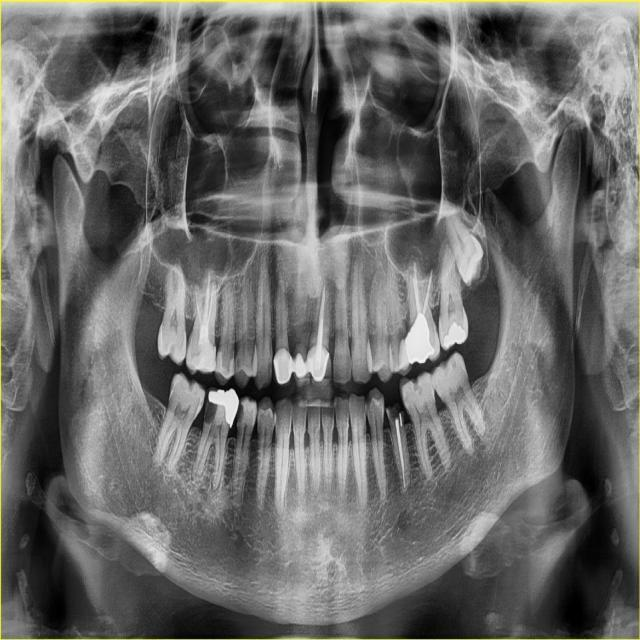Caries: (204, 389, 218, 425), (410, 376, 422, 397), (237, 399, 245, 428), (210, 425, 221, 440), (267, 355, 273, 375), (442, 361, 450, 376), (235, 356, 240, 373)
Crown: (406, 314, 435, 365), (308, 344, 331, 388), (191, 337, 216, 372), (272, 348, 293, 387), (293, 342, 310, 388)
Filling: (208, 388, 238, 427), (444, 320, 465, 348), (215, 350, 234, 378), (398, 338, 411, 371), (198, 321, 210, 343)
Root Canal Treatment: (412, 261, 421, 316), (422, 270, 432, 315), (318, 285, 325, 321), (204, 272, 209, 314), (210, 283, 215, 324), (195, 292, 200, 329)
Root Piece: (386, 406, 410, 495)
impacted tooth: (442, 192, 486, 287)
